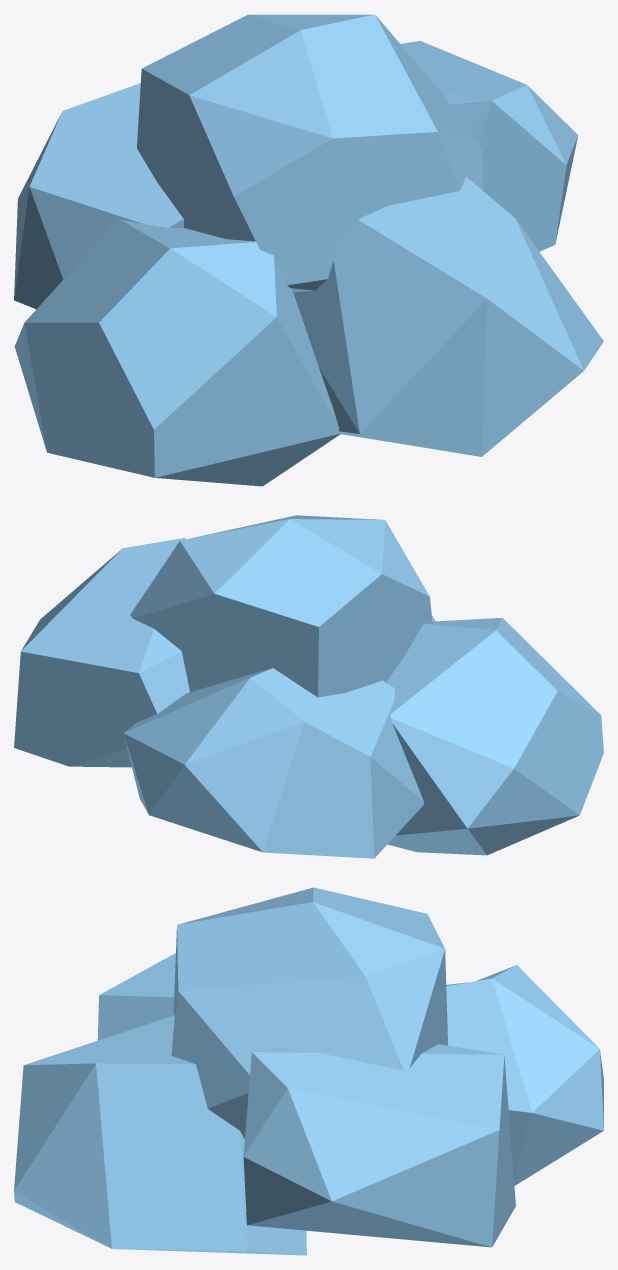
The model's file is Cloud.fbx.
The picture shows the model from 3 angles, top to bottom: view 1: azimuth 30°, elevation 25°; view 2: azimuth 150°, elevation 25°; view 3: azimuth 270°, elevation 25°; orthographic projection. The views are drawn at different scales.
Parts seen in each view (by area): view 1: Cloud; view 2: Cloud; view 3: Cloud.
Boxes of the visible parts, x1,y1,x2,y2 form: Cloud: (14,14,603,486); Cloud: (14,515,603,858); Cloud: (14,887,603,1255).
Size of the model in its own units: 443 by 279 by 415.
